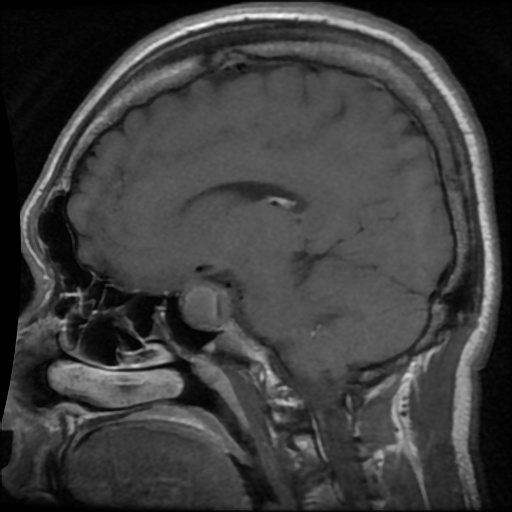pituitary: (182, 283, 231, 328)
